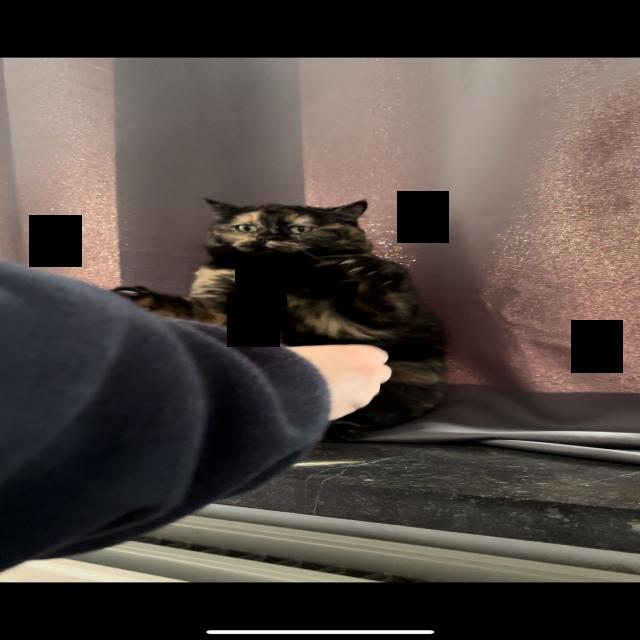authorized: (111, 196, 449, 442)
